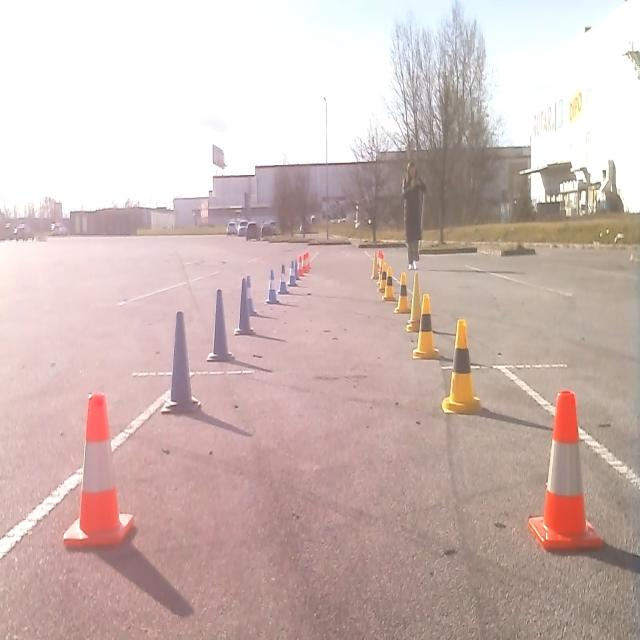blue_cone: (160, 306, 202, 414), (207, 287, 234, 364), (235, 276, 256, 337), (243, 275, 257, 316), (266, 270, 280, 305), (278, 264, 289, 296), (289, 261, 297, 287)
orange_cone: (526, 386, 604, 555), (62, 388, 135, 551), (376, 251, 384, 275), (302, 253, 311, 274), (297, 256, 304, 277)
yellow_cone: (440, 316, 482, 415), (412, 291, 439, 361), (405, 271, 422, 331), (394, 269, 411, 314), (382, 264, 396, 302), (377, 264, 388, 294), (371, 253, 379, 280)
